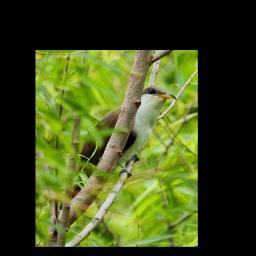Cuckoo: (51, 85, 181, 210)
